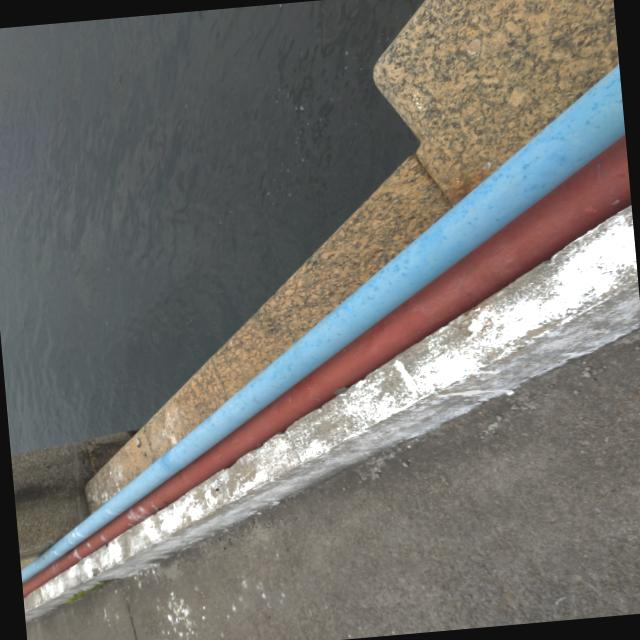gas: (20, 64, 625, 580), (22, 132, 631, 596)
